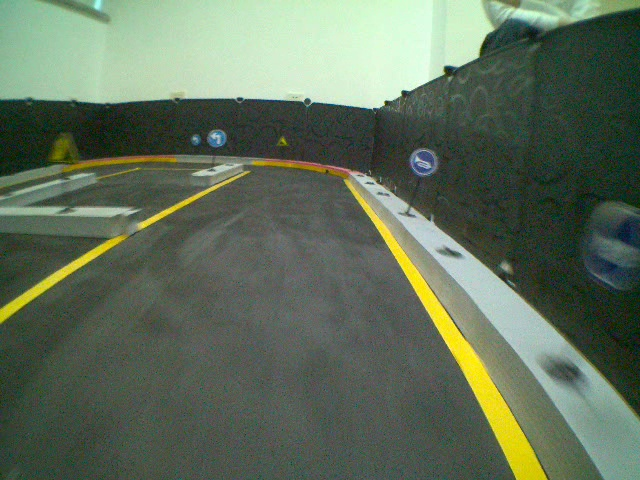fast: (49, 131, 83, 167), (275, 135, 289, 147)
horn: (408, 148, 438, 177)
turn: (206, 128, 227, 147), (191, 133, 201, 145)
